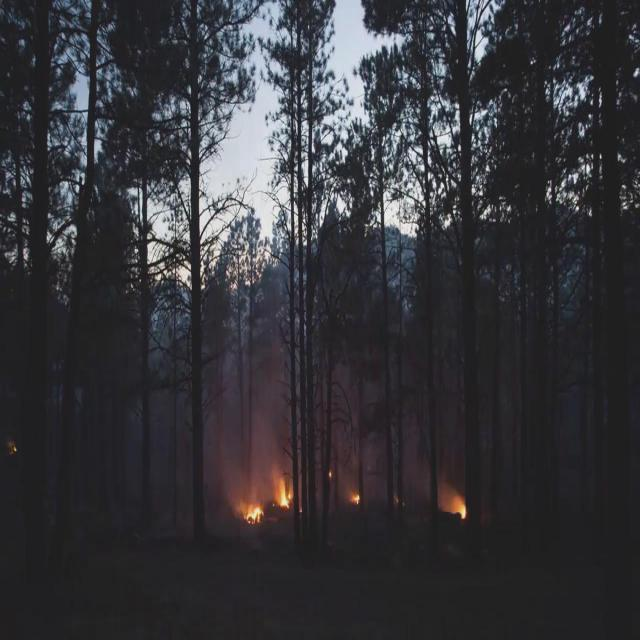Fire: (274, 477, 292, 511), (242, 503, 266, 524), (454, 494, 466, 519), (350, 492, 360, 504)
